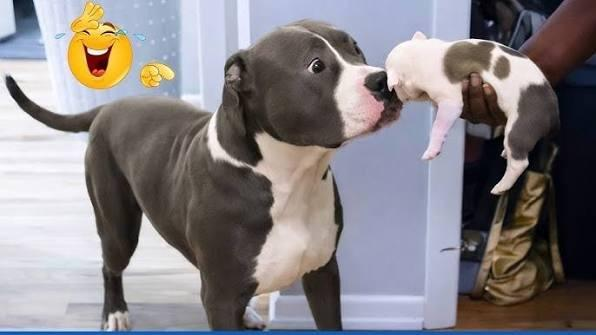adult_dog: (4, 17, 405, 333)
puppy-dog: (385, 28, 561, 198)
